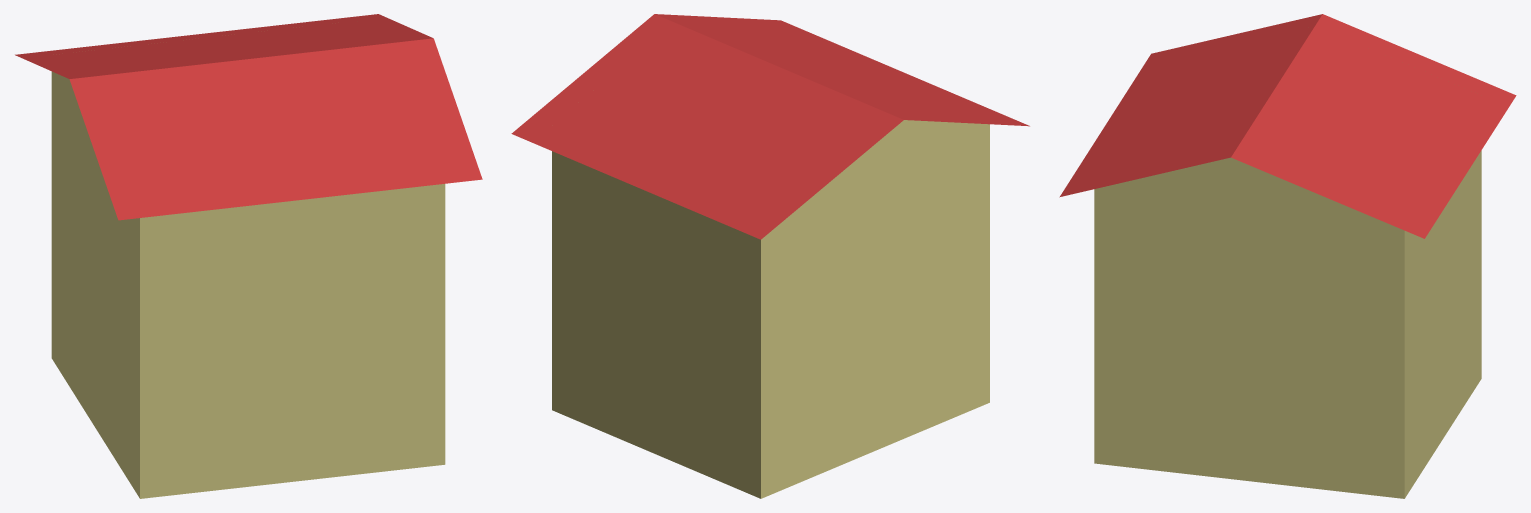
3 renders of one model, left to right at view 1: azimuth 30°, elevation 25°; view 2: azimuth 150°, elevation 25°; view 3: azimuth 270°, elevation 25°, orthographic. The views are drawn at different scales.
Parts seen in each view (by area): view 1: group_5, group_3, group_4; view 2: group_5, group_3, group_4; view 3: group_5, group_3, group_4.
Boxes of the visible parts, <box> form: group_5: <box>51,71,445,498</box>; group_3: <box>52,20,482,220</box>; group_4: <box>15,14,433,96</box>; group_5: <box>552,120,989,498</box>; group_3: <box>552,14,1029,213</box>; group_4: <box>511,14,903,239</box>; group_5: <box>1094,150,1481,498</box>; group_3: <box>1059,14,1481,215</box>; group_4: <box>1171,14,1516,238</box>.
Size of the model in its own units: 7.68 by 8.01 by 6.46.
